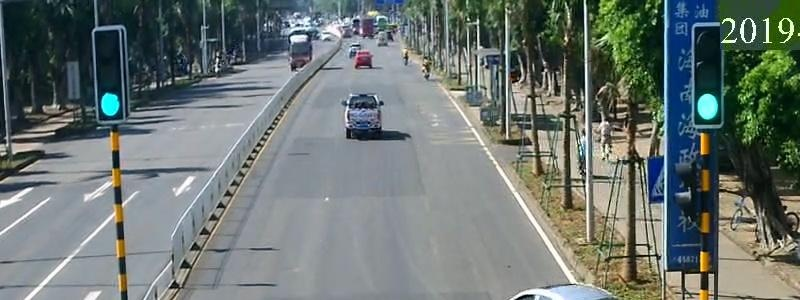green: (688, 87, 730, 130), (95, 84, 128, 128)
